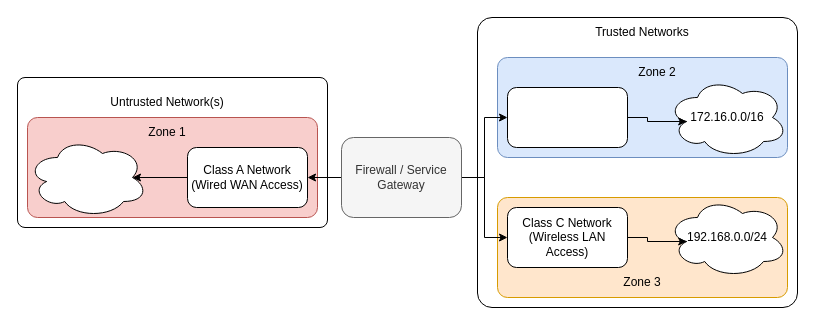
The diagram is 815 pixels wide and 325 high, and some of its shapes have lost their labels. Each missing label, with the centre of its shape:
"Class B Network (Wireless LAN Access)" goes at pixel 567 117.
"Internet (or 10.0.0.0/8)" goes at pixel 87 177.
